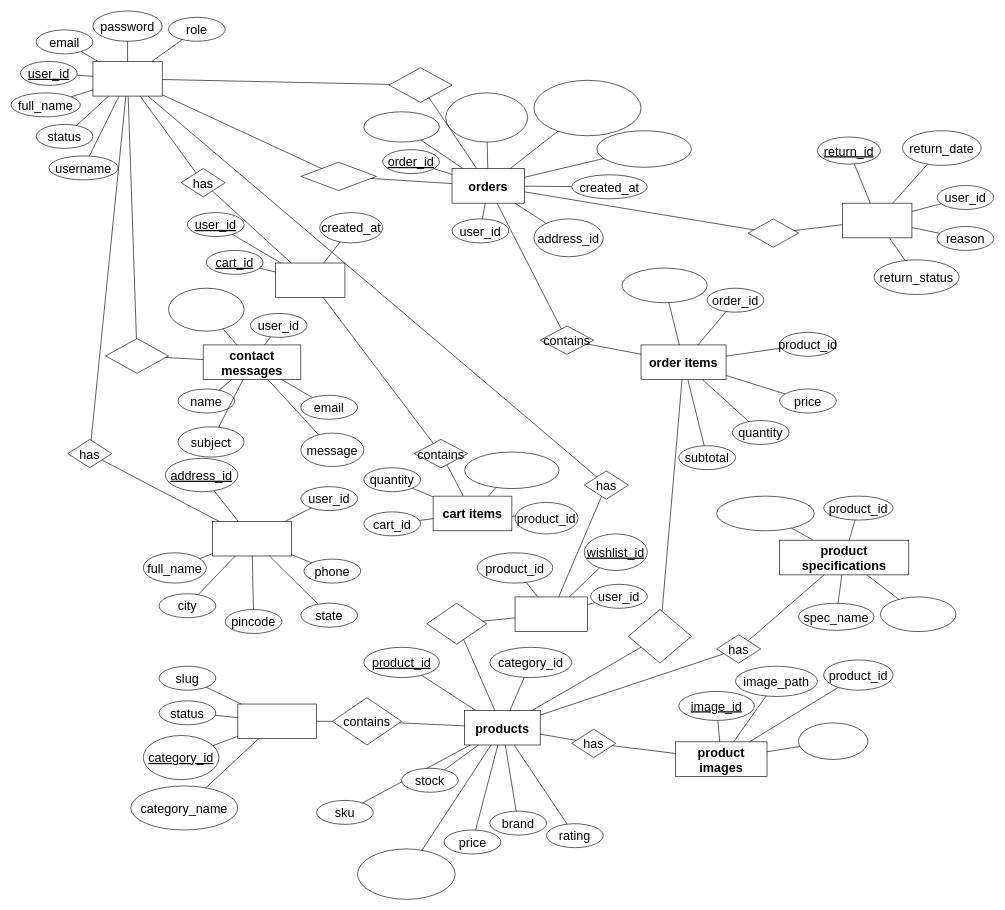
Some shapes in this 1005 by 910 pixel diagram are drawn without their labels. The shapes that lost their labels are listed below. From the top down, each one's centre as x and y in pixels, then its label:
At point (127, 78): "users".
At point (420, 84): "submits".
At point (401, 126): "order_status".
At point (486, 117): "total_amount".
At point (587, 108): "payment_method".
At point (643, 148): "payment_status".
At point (338, 176): "places".
At point (773, 232): "return".
At point (877, 220): "returns".
At point (310, 280): "carts".
At point (664, 285): "order_item_id".
At point (206, 309): "message_id".
At point (137, 355): "sends".
At point (511, 470): "cart_item_id".
At point (765, 513): "specification_id".
At point (251, 538): "addresses".
At point (456, 623): "saved".
At point (550, 614): "wishlist".
At point (918, 614): "spec_value".
At point (659, 636): "included".
At point (277, 721): "categories".
At point (833, 740): "is_primary".
At point (406, 873): "product_name".
